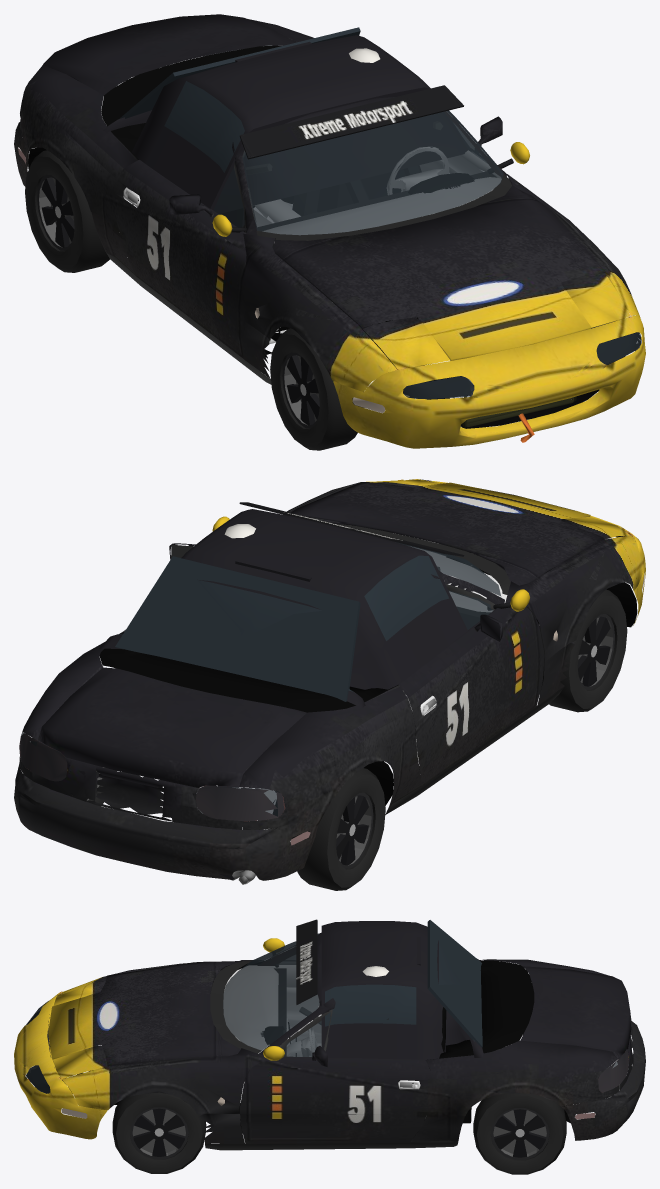
3 views of the same model, one above another, from view 1: azimuth 30°, elevation 25°; view 2: azimuth 150°, elevation 25°; view 3: azimuth 270°, elevation 25° (orthographic). The views are drawn at different scales.
Parts seen in each view (by area): view 1: body, wheel_rr, wheel_fr; view 2: body, wheel_rr, wheel_fr; view 3: body, wheel_rl, wheel_fl.
Boxes of the visible parts, box(x1,y1,x2,y2) form: body: box(14, 14, 645, 448); wheel_rr: box(25, 150, 109, 272); wheel_fr: box(270, 328, 363, 450); body: box(14, 479, 645, 884); wheel_rr: box(292, 768, 385, 890); wheel_fr: box(539, 589, 627, 712); body: box(14, 919, 645, 1150); wheel_rl: box(473, 1093, 566, 1174); wheel_fl: box(112, 1092, 205, 1173).
Bounding box in the file's own units: 1.78 × 1.22 × 3.97.
2 materials, 1 textured.
